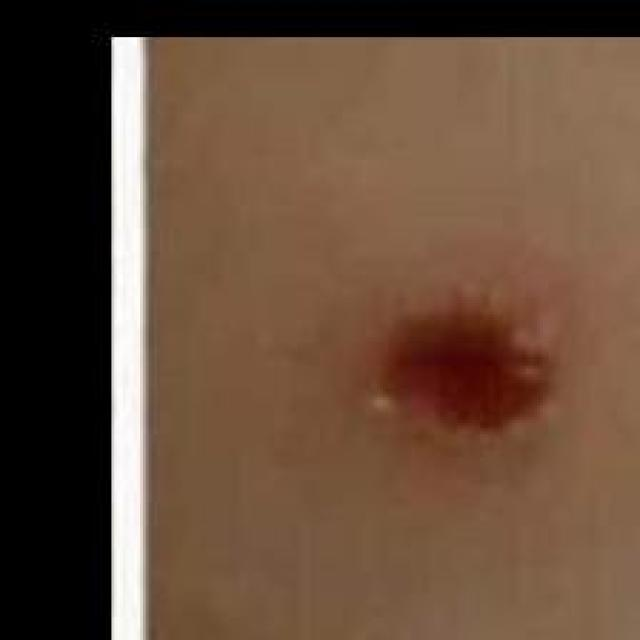others: (120, 36, 640, 638)
